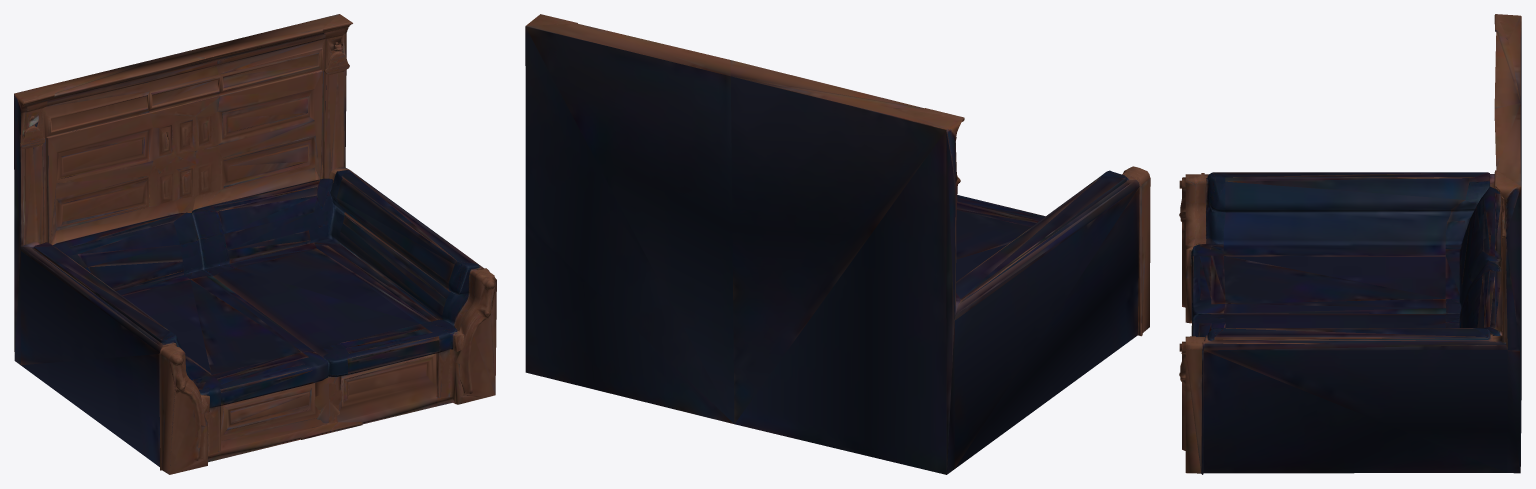
Rendered from seat.glb.
3 views of the same model, side by side, from view 1: azimuth 30°, elevation 25°; view 2: azimuth 150°, elevation 25°; view 3: azimuth 270°, elevation 25° (orthographic). The views are drawn at different scales.
Bounding box in the file's own units: 0.9478 × 0.7368 × 0.792.
1 material, 1 textured.
